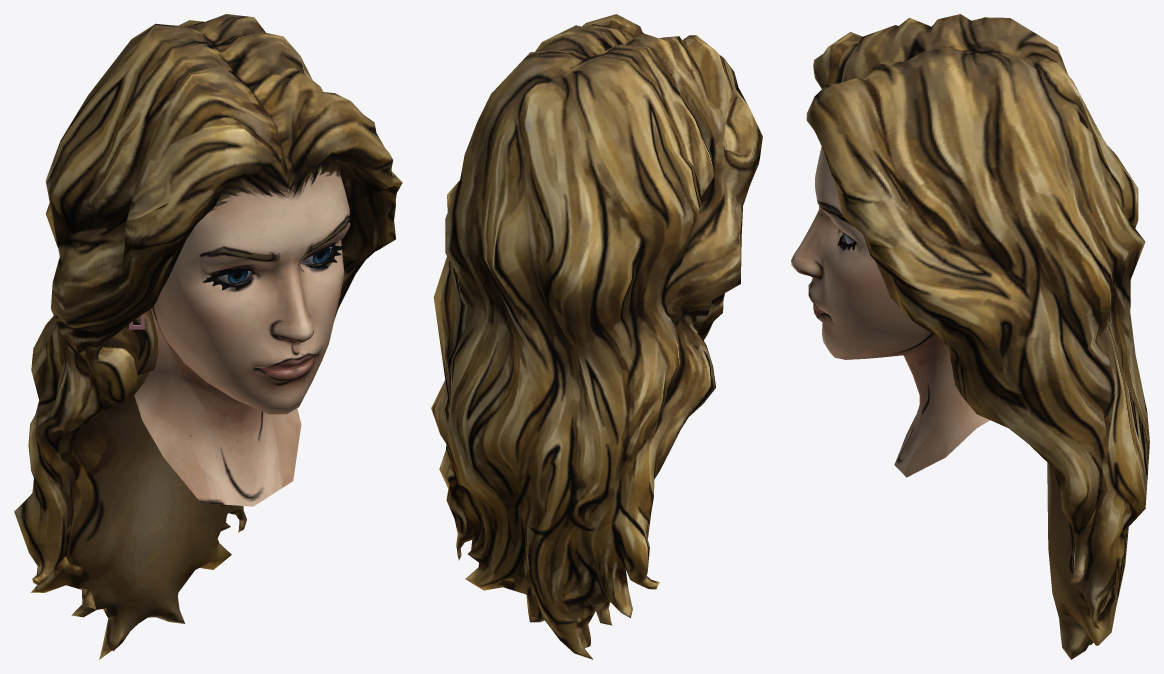
Rendered from beauty.glb.
The picture shows the model from 3 angles, left to right: view 1: azimuth 30°, elevation 25°; view 2: azimuth 150°, elevation 25°; view 3: azimuth 270°, elevation 25°; orthographic projection. The views are drawn at different scales.
Visible parts, largest first — view 1: Object_13, Object_14, Object_16, Object_15, Object_9; view 2: Object_14, Object_13; view 3: Object_14, Object_13, Object_16, Object_15.
Part boxes in pixels (x1,y1,x2,y2): Object_13: (29,14,402,659); Object_14: (14,141,396,585); Object_16: (134,170,350,470); Object_15: (142,175,337,506); Object_9: (203,244,345,290); Object_14: (431,122,752,578); Object_13: (454,14,762,659); Object_14: (870,107,1149,611); Object_13: (806,14,1128,659); Object_16: (791,146,989,446); Object_15: (800,150,976,477).
Bounding box in the file's own units: 0.3393 × 0.6446 × 0.3312.
9 materials, 9 textured.
